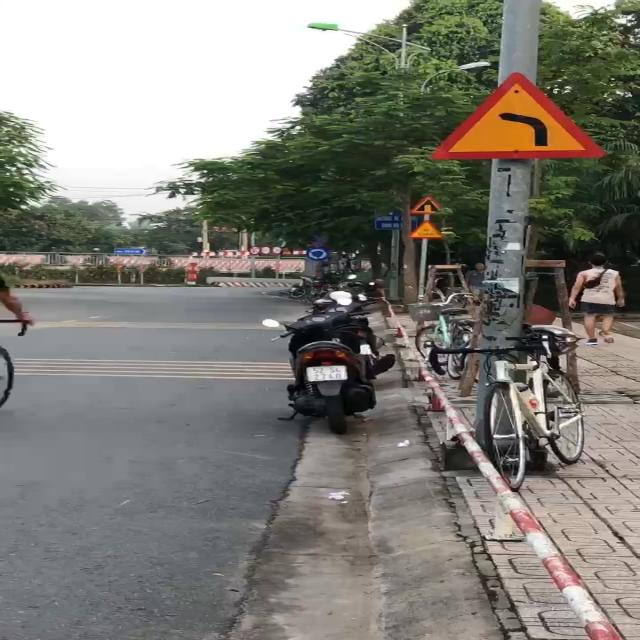Bien bao cho ngoat nguy hiem: (430, 68, 612, 163)
